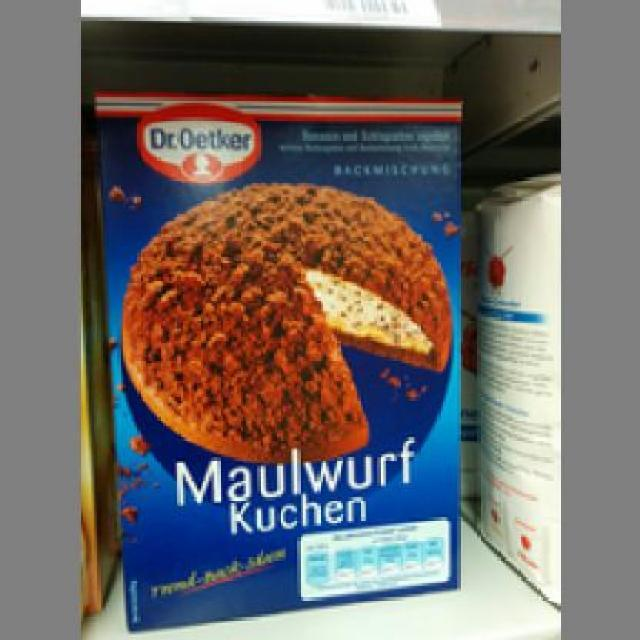Cake: (88, 86, 474, 632)
